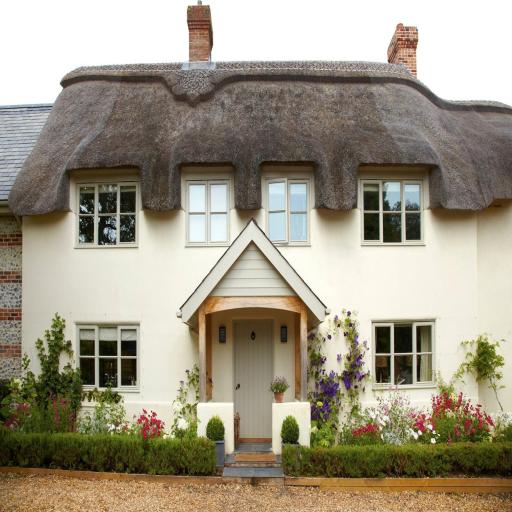door: (232, 318, 272, 450)
